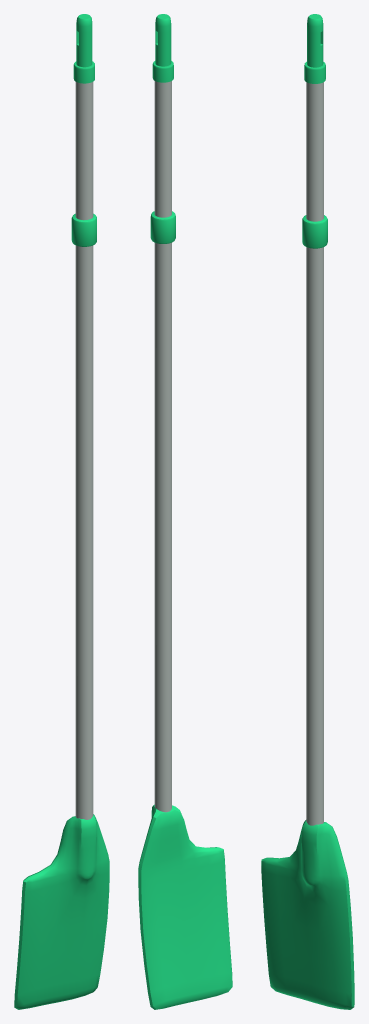
The model's file is spaderight.fbx.
The picture shows the model from 3 angles, left to right: view 1: azimuth 30°, elevation 25°; view 2: azimuth 210°, elevation 25°; view 3: azimuth 330°, elevation 25°; orthographic projection.
Visible parts, largest first — view 1: spaderight; view 2: spaderight; view 3: spaderight.
Boxes of the visible parts, left/top/right/bottom form: spaderight: left=14, top=14, right=109, bottom=1009; spaderight: left=138, top=14, right=232, bottom=1009; spaderight: left=261, top=14, right=354, bottom=1009.
Size of the model in its own units: 56.3 by 606 by 24.29.
